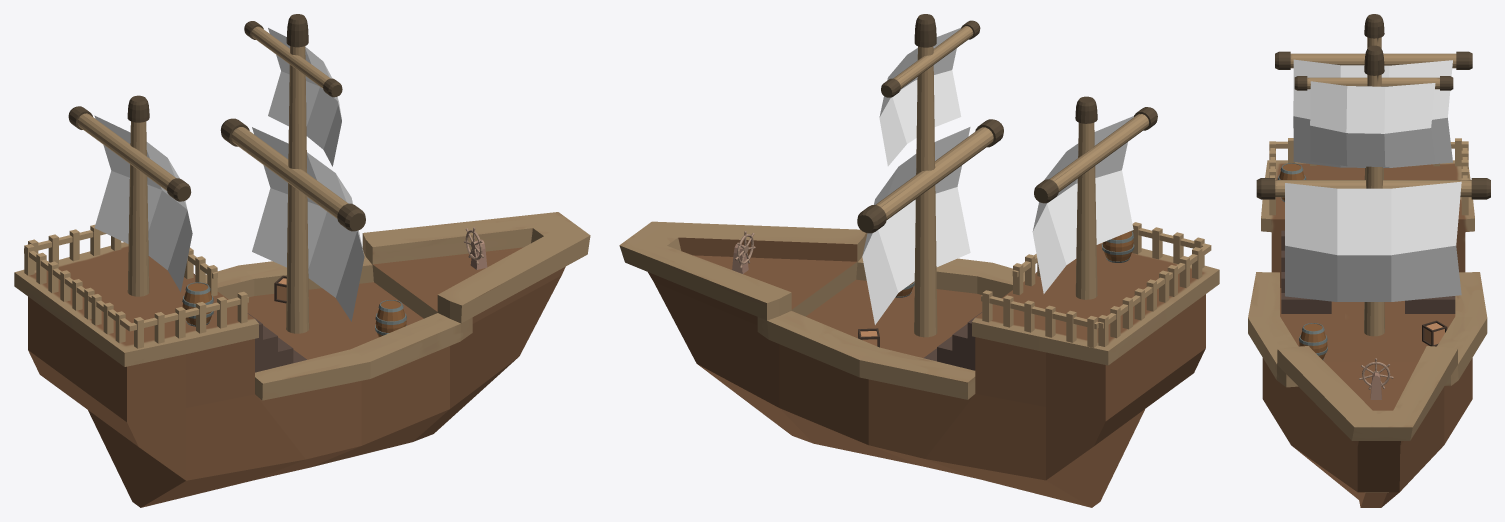
File: low-poly_pirate_ship.glb
3 views of the same model, side by side, from view 1: azimuth 30°, elevation 25°; view 2: azimuth 150°, elevation 25°; view 3: azimuth 270°, elevation 25° (orthographic). The views are drawn at different scales.
Parts seen in each view (by area): view 1: Object_2, Object_17, Object_5, Object_19, Object_7, Object_11, Object_18, Object_8, Object_10, Object_9, Object_12, Object_3 (+1 smaller); view 2: Object_2, Object_17, Object_5, Object_19, Object_7, Object_18, Object_11, Object_8, Object_10, Object_9, Object_13, Object_4; view 3: Object_2, Object_17, Object_18, Object_19, Object_8, Object_10, Object_7, Object_9, Object_5, Object_12, Object_13, Object_3 (+4 smaller).
Part boxes in pixels (x1,y1,x2,y2): Object_2: [14, 212, 590, 507]; Object_17: [252, 127, 364, 321]; Object_5: [24, 224, 248, 348]; Object_19: [94, 115, 192, 291]; Object_7: [286, 14, 309, 333]; Object_11: [127, 95, 149, 296]; Object_18: [268, 28, 341, 166]; Object_8: [220, 118, 365, 231]; Object_10: [68, 106, 191, 201]; Object_9: [244, 21, 342, 97]; Object_12: [237, 305, 306, 372]; Object_3: [375, 300, 406, 337]; Object_2: [619, 221, 1219, 507]; Object_17: [862, 127, 970, 324]; Object_5: [981, 222, 1211, 347]; Object_19: [1032, 116, 1133, 293]; Object_7: [914, 14, 937, 337]; Object_18: [879, 28, 961, 166]; Object_11: [1075, 96, 1097, 299]; Object_8: [857, 119, 1003, 233]; Object_10: [1034, 107, 1157, 203]; Object_9: [881, 20, 980, 97]; Object_13: [923, 304, 992, 370]; Object_4: [1101, 231, 1134, 262]; Object_2: [1248, 160, 1487, 507]; Object_17: [1285, 181, 1461, 301]; Object_18: [1310, 81, 1435, 166]; Object_19: [1293, 59, 1452, 167]; Object_8: [1256, 178, 1490, 199]; Object_10: [1275, 51, 1472, 69]; Object_7: [1364, 45, 1384, 336]; Object_9: [1294, 76, 1453, 90]; Object_5: [1269, 138, 1468, 215]; Object_12: [1281, 230, 1331, 313]; Object_13: [1405, 296, 1455, 313]; Object_3: [1299, 323, 1327, 359].
Bounding box in the file's own units: 34.02 × 28.16 × 15.33.
19 materials, 15 textured.
